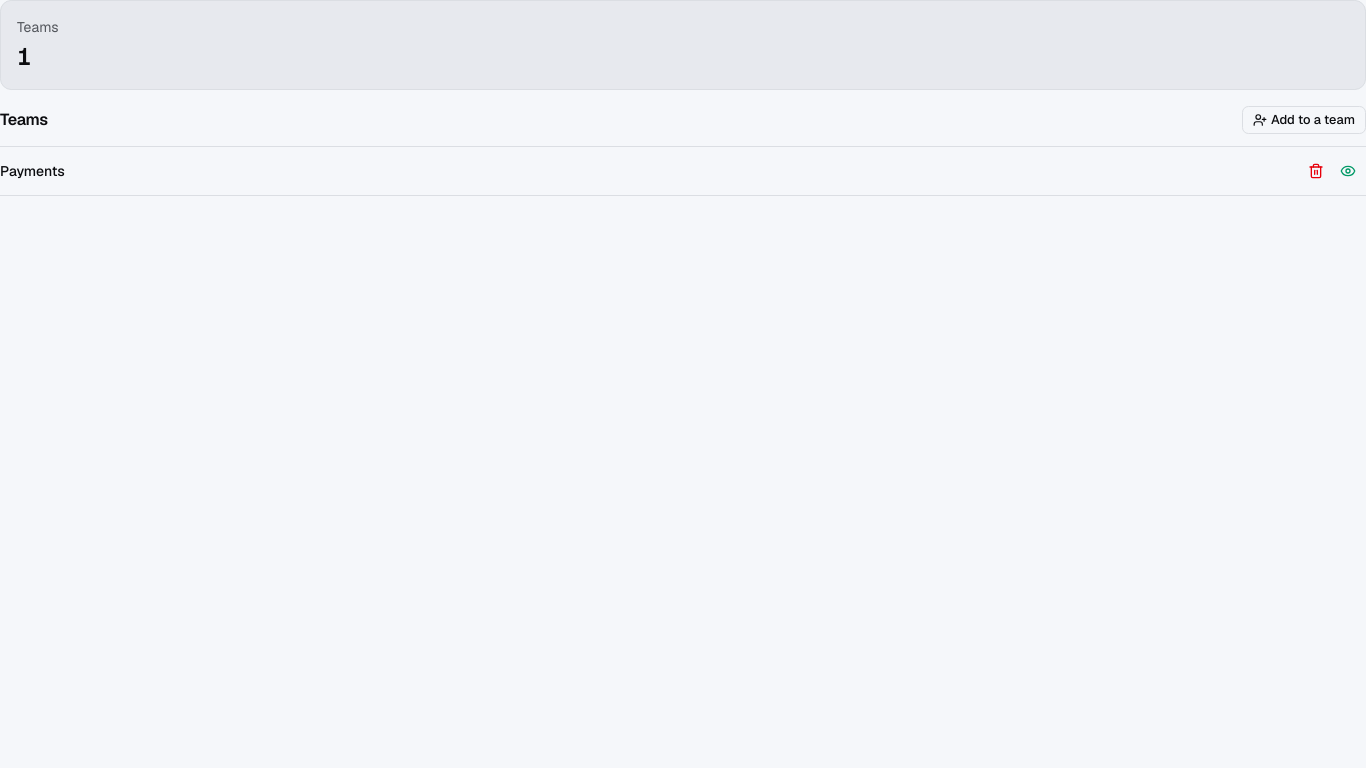
Test: ResourceStats assign and remove › shows the server's message when adding fails
Click the button "Add to a team": point(1304, 120) [1242, 106, 1365, 134]
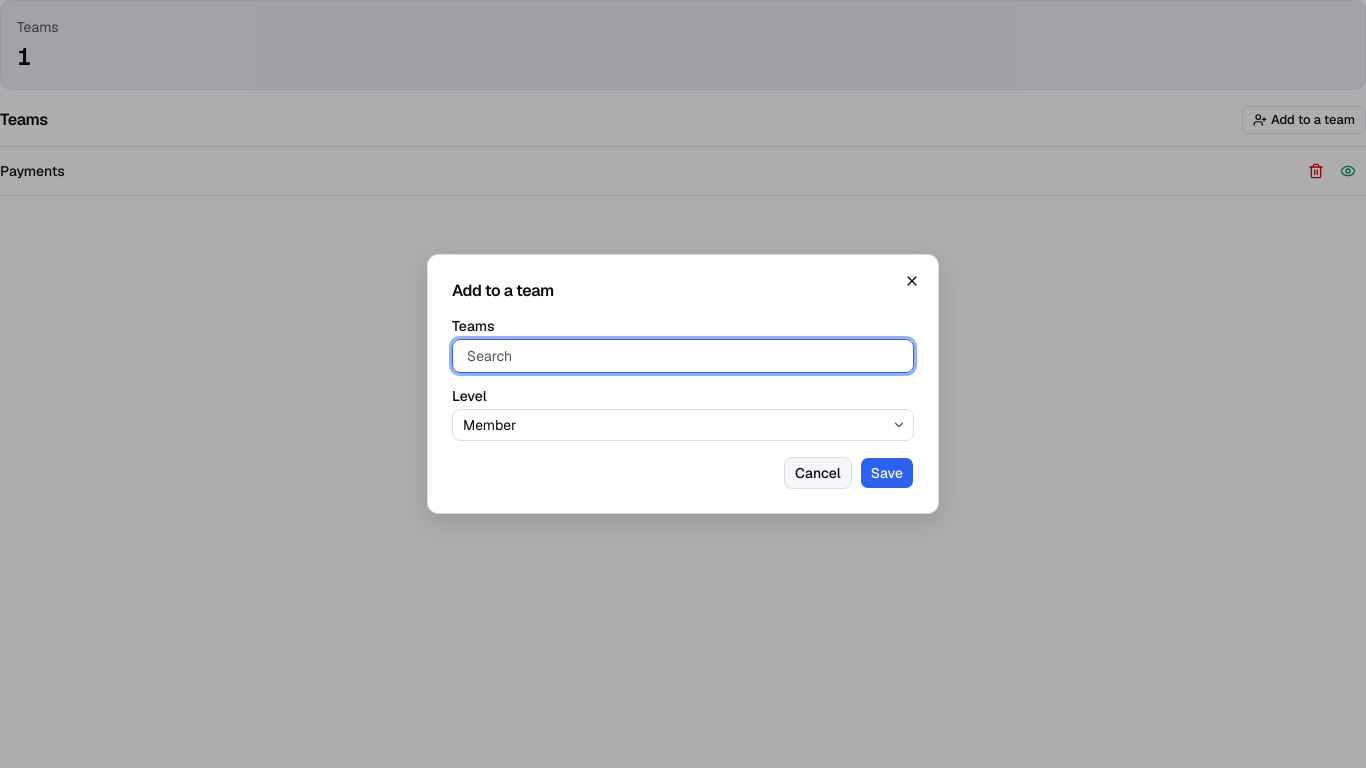
In the dropdown labelled "Teams": point(683, 356) [457, 344, 909, 368], type "dat"
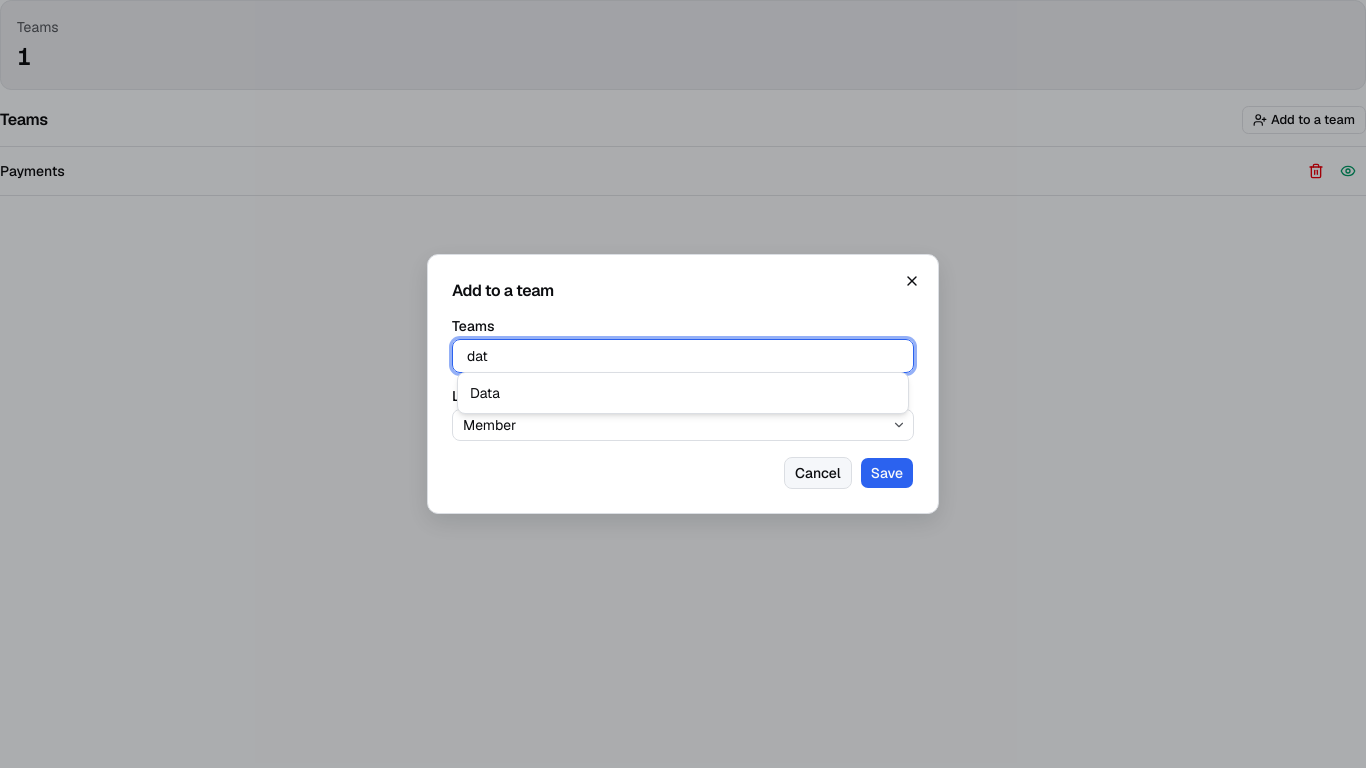
Click the option "Data": point(485, 393) [470, 384, 500, 402]
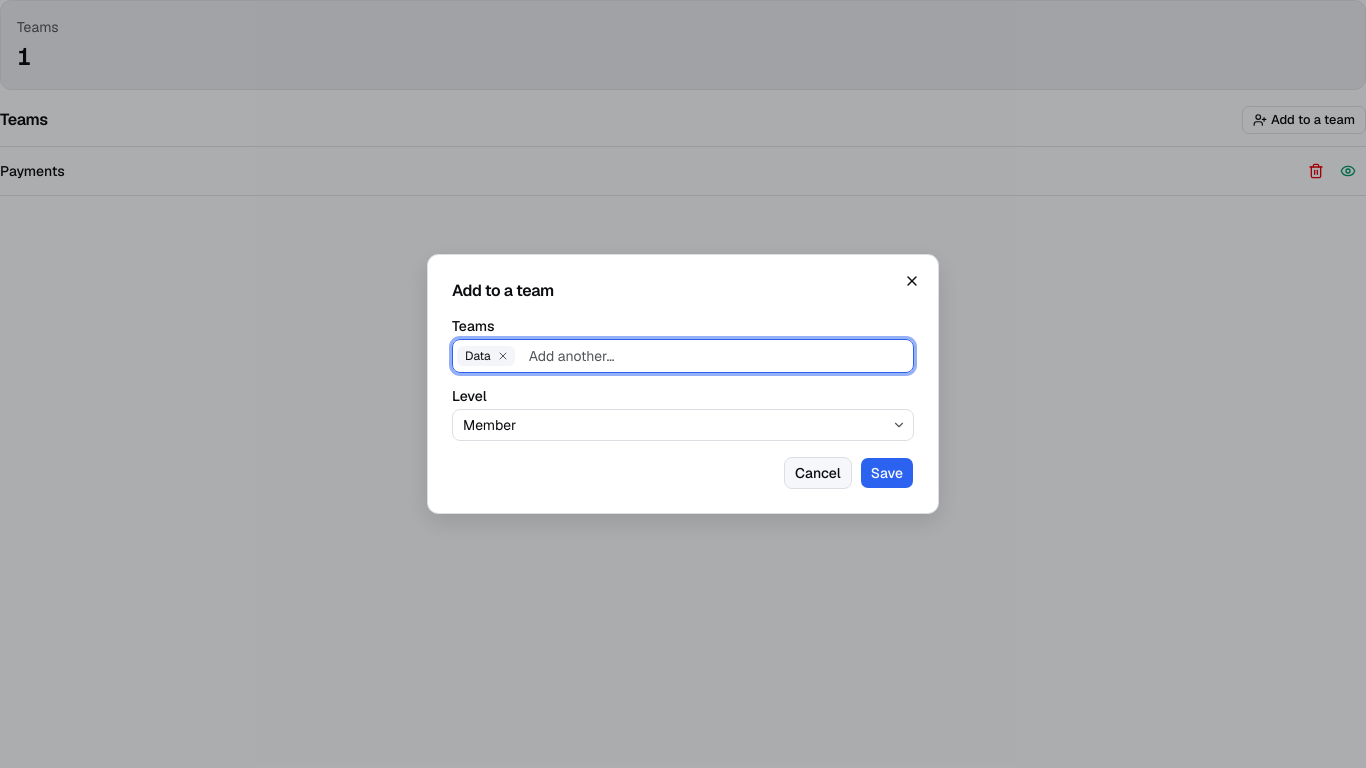
Click the button "Save": point(887, 473) [860, 457, 914, 489]
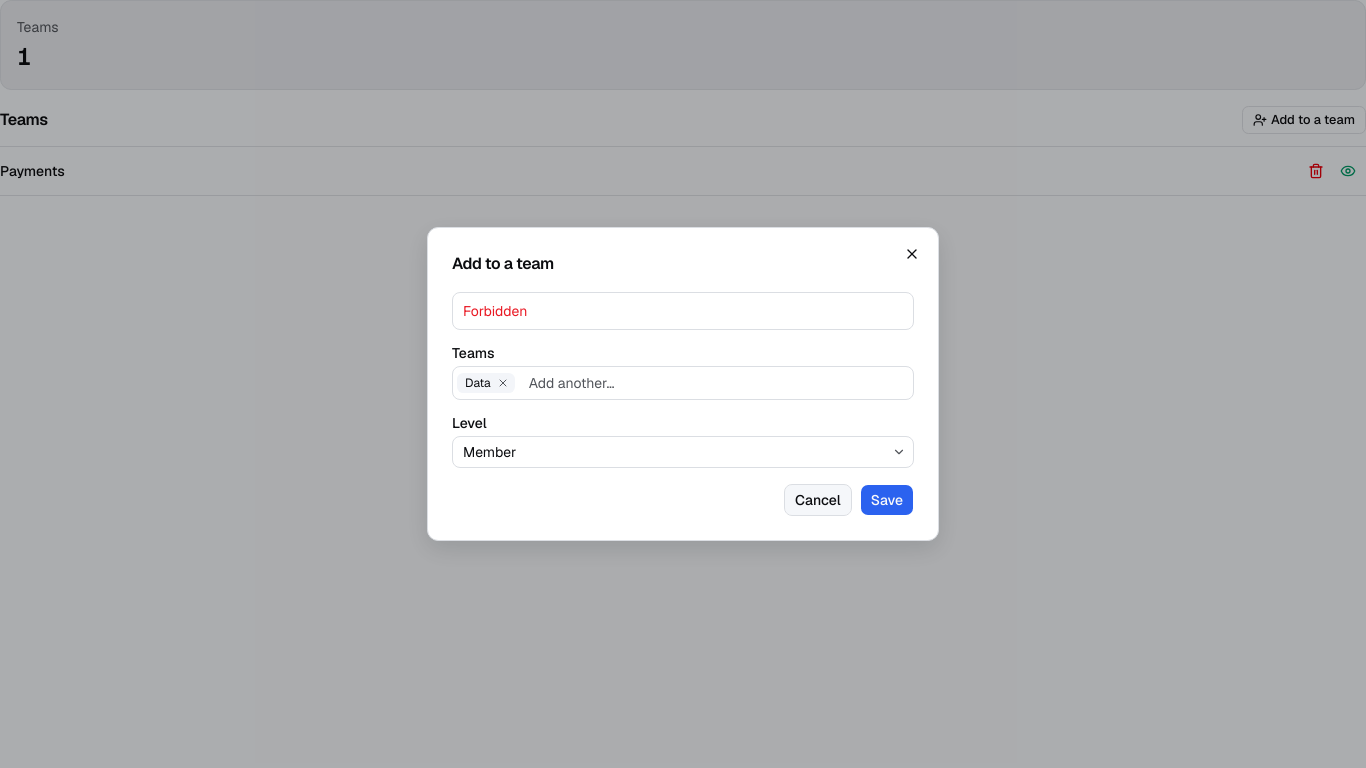
Check: the text "Forbidden" is shown, box [463, 302, 527, 320]
